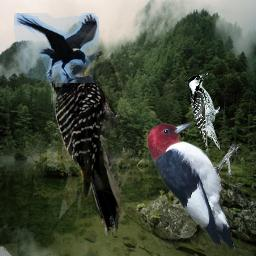Crow: (14, 13, 99, 83)
Woodpecker: (47, 50, 140, 239), (146, 121, 244, 249), (187, 71, 220, 153)
